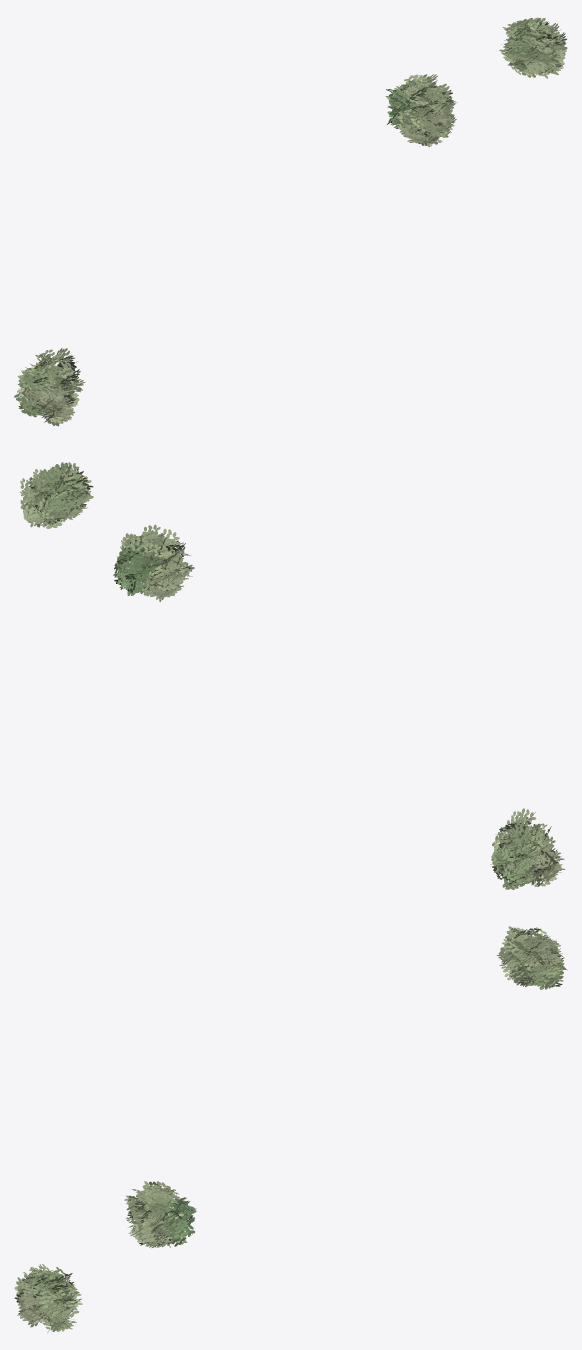
Rendered from campus-tree-1_-2-near.glb.
The picture shows the model from 3 angles, top to bottom: view 1: azimuth 90°, elevation 25°; view 2: azimuth 150°, elevation 25°; view 3: azimuth 270°, elevation 25°; orthographic projection. The views are drawn at different scales.
Visible parts, largest first — view 1: Campus leaf canopy; view 2: Campus leaf canopy; view 3: Campus leaf canopy.
Boxes of the visible parts, x1=… form: Campus leaf canopy: x1=14, y1=17, x2=567, y2=426; Campus leaf canopy: x1=20, y1=462, x2=565, y2=889; Campus leaf canopy: x1=14, y1=926, x2=567, y2=1332.
Bounding box in the file's own units: 56.52 × 5.52 × 35.61.
Materials: 1 (1 with a texture image).
